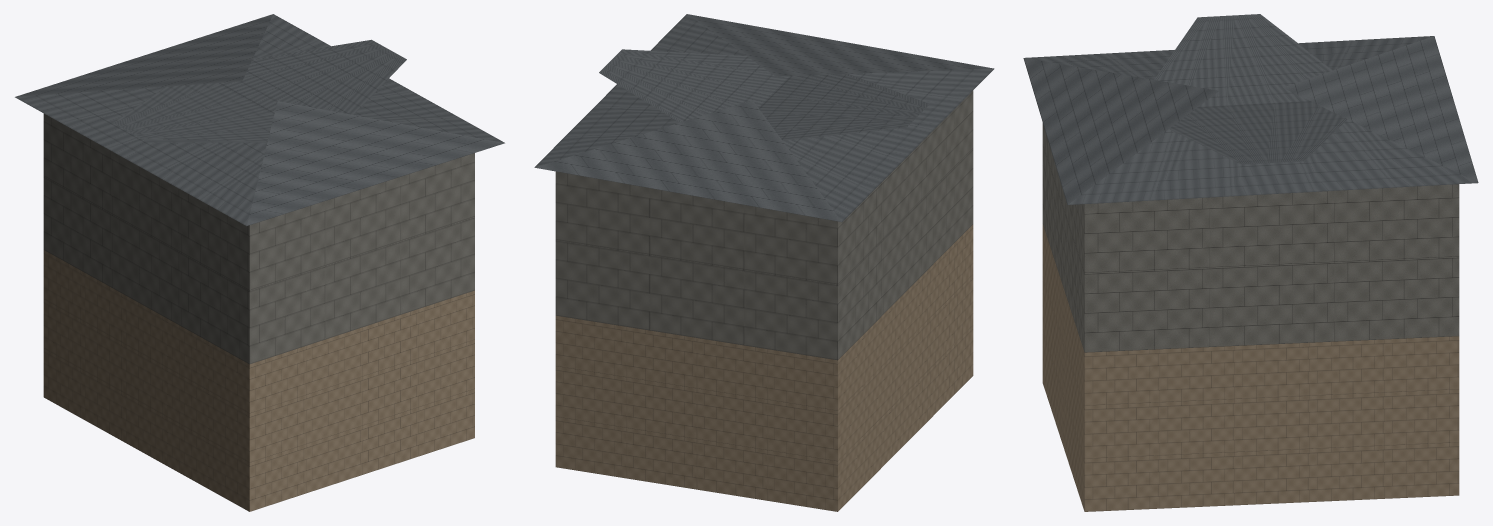
File: bld_c-3_-13_639.gltf
The picture shows the model from 3 angles, left to right: view 1: azimuth 30°, elevation 25°; view 2: azimuth 150°, elevation 25°; view 3: azimuth 270°, elevation 25°; orthographic projection. The views are drawn at different scales.
Visible parts, largest first — view 1: bld_c-3_-13_639; view 2: bld_c-3_-13_639; view 3: bld_c-3_-13_639.
Boxes of the visible parts, box(x1,y1,x2,y2) form: bld_c-3_-13_639: box(15, 14, 504, 511); bld_c-3_-13_639: box(534, 14, 994, 511); bld_c-3_-13_639: box(1023, 14, 1478, 511).
Size of the model in its own units: 11.61 by 11.2 by 13.2.
3 materials, 3 textured.
